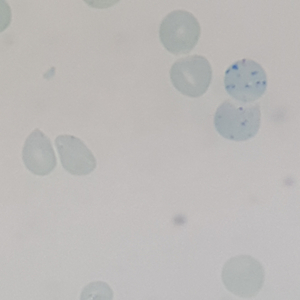aggregate reticulocyte: (222, 57, 269, 104)
erythrocyte: (219, 253, 267, 300), (157, 9, 202, 56), (167, 54, 214, 99), (20, 128, 59, 178)
punctate reticulocyte: (212, 98, 264, 142), (52, 132, 100, 178)
